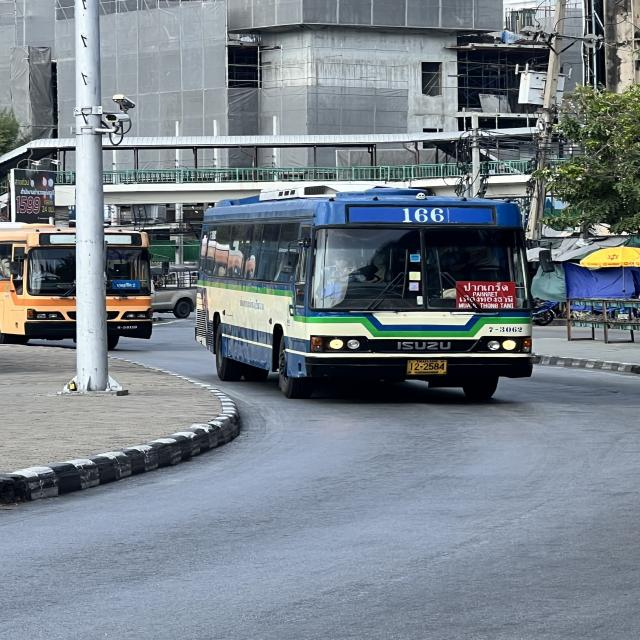BMTA-bus: (193, 188, 534, 402), (0, 223, 153, 352)
Bus-Line-Number: (397, 202, 448, 226)
Destination-Sign-Extra-Bus: (455, 280, 517, 308)
Destination-Sign-Normal: (111, 281, 141, 289)
